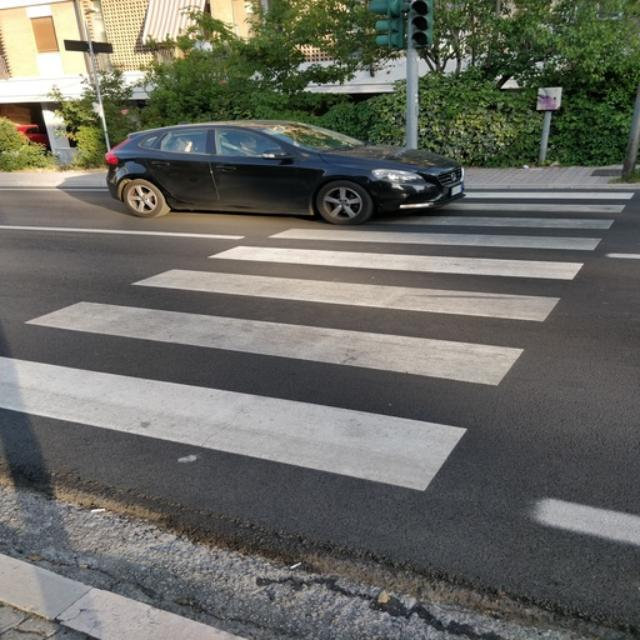sidewalk: (0, 184, 637, 571)
